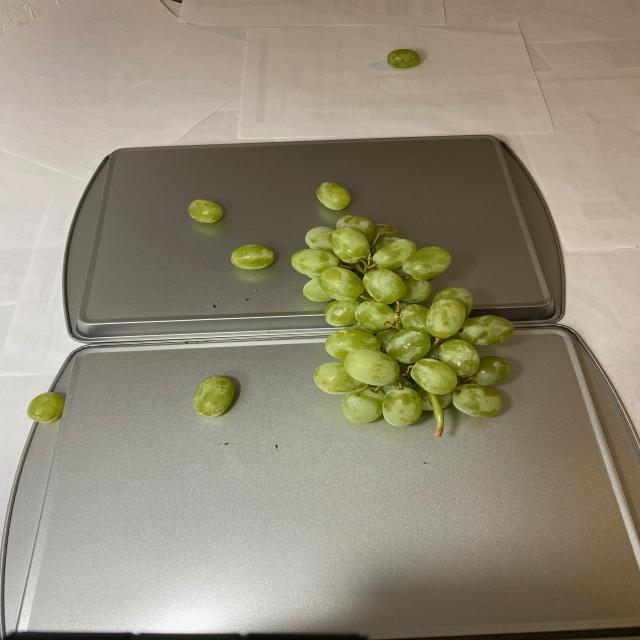grapes: (186, 179, 517, 439), (25, 387, 68, 427), (388, 46, 422, 72)
